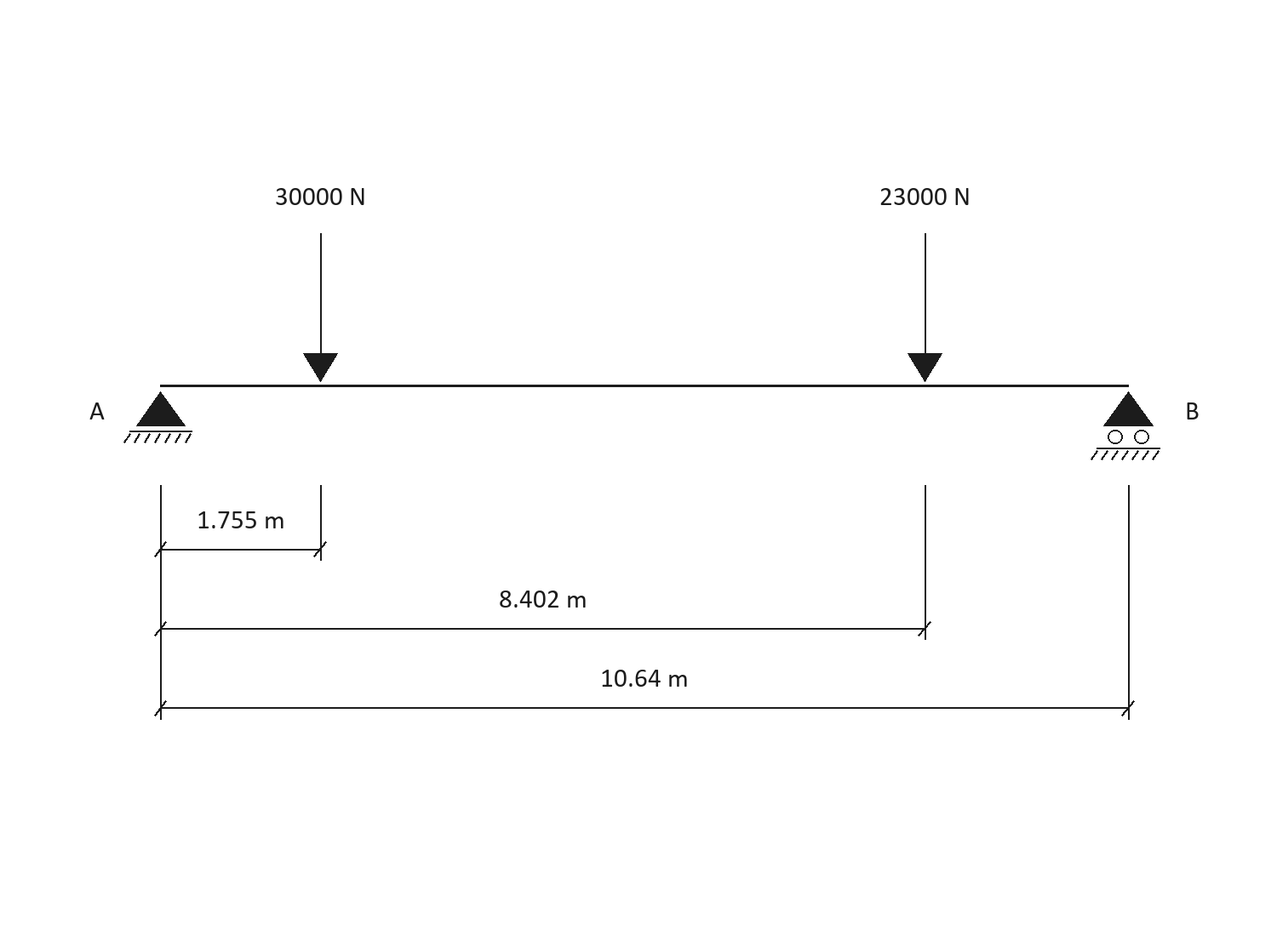pin_support: (123, 391, 192, 443)
point_load: (303, 233, 338, 382), (908, 233, 942, 382)
roller_support: (1091, 391, 1160, 460)
